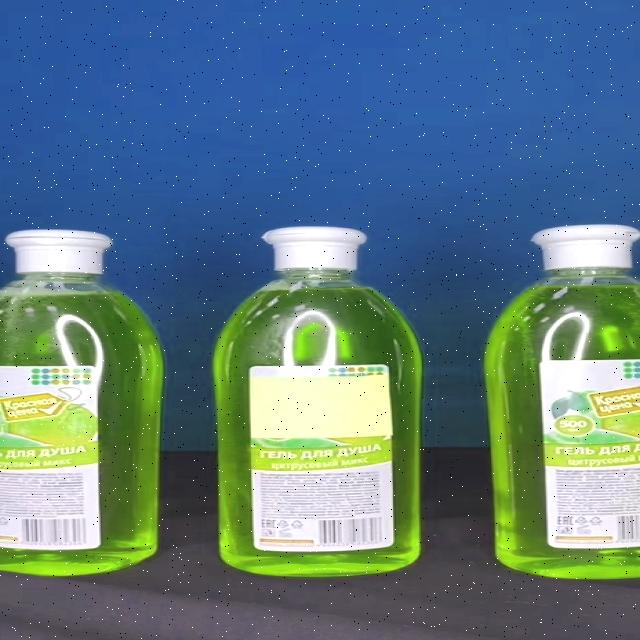Bottle: (213, 226, 423, 576), (0, 228, 166, 576), (487, 225, 640, 579)
Cap: (529, 225, 640, 270), (6, 228, 113, 274), (262, 227, 368, 270)
